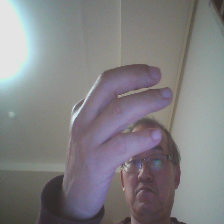hand: (63, 63, 171, 214)
